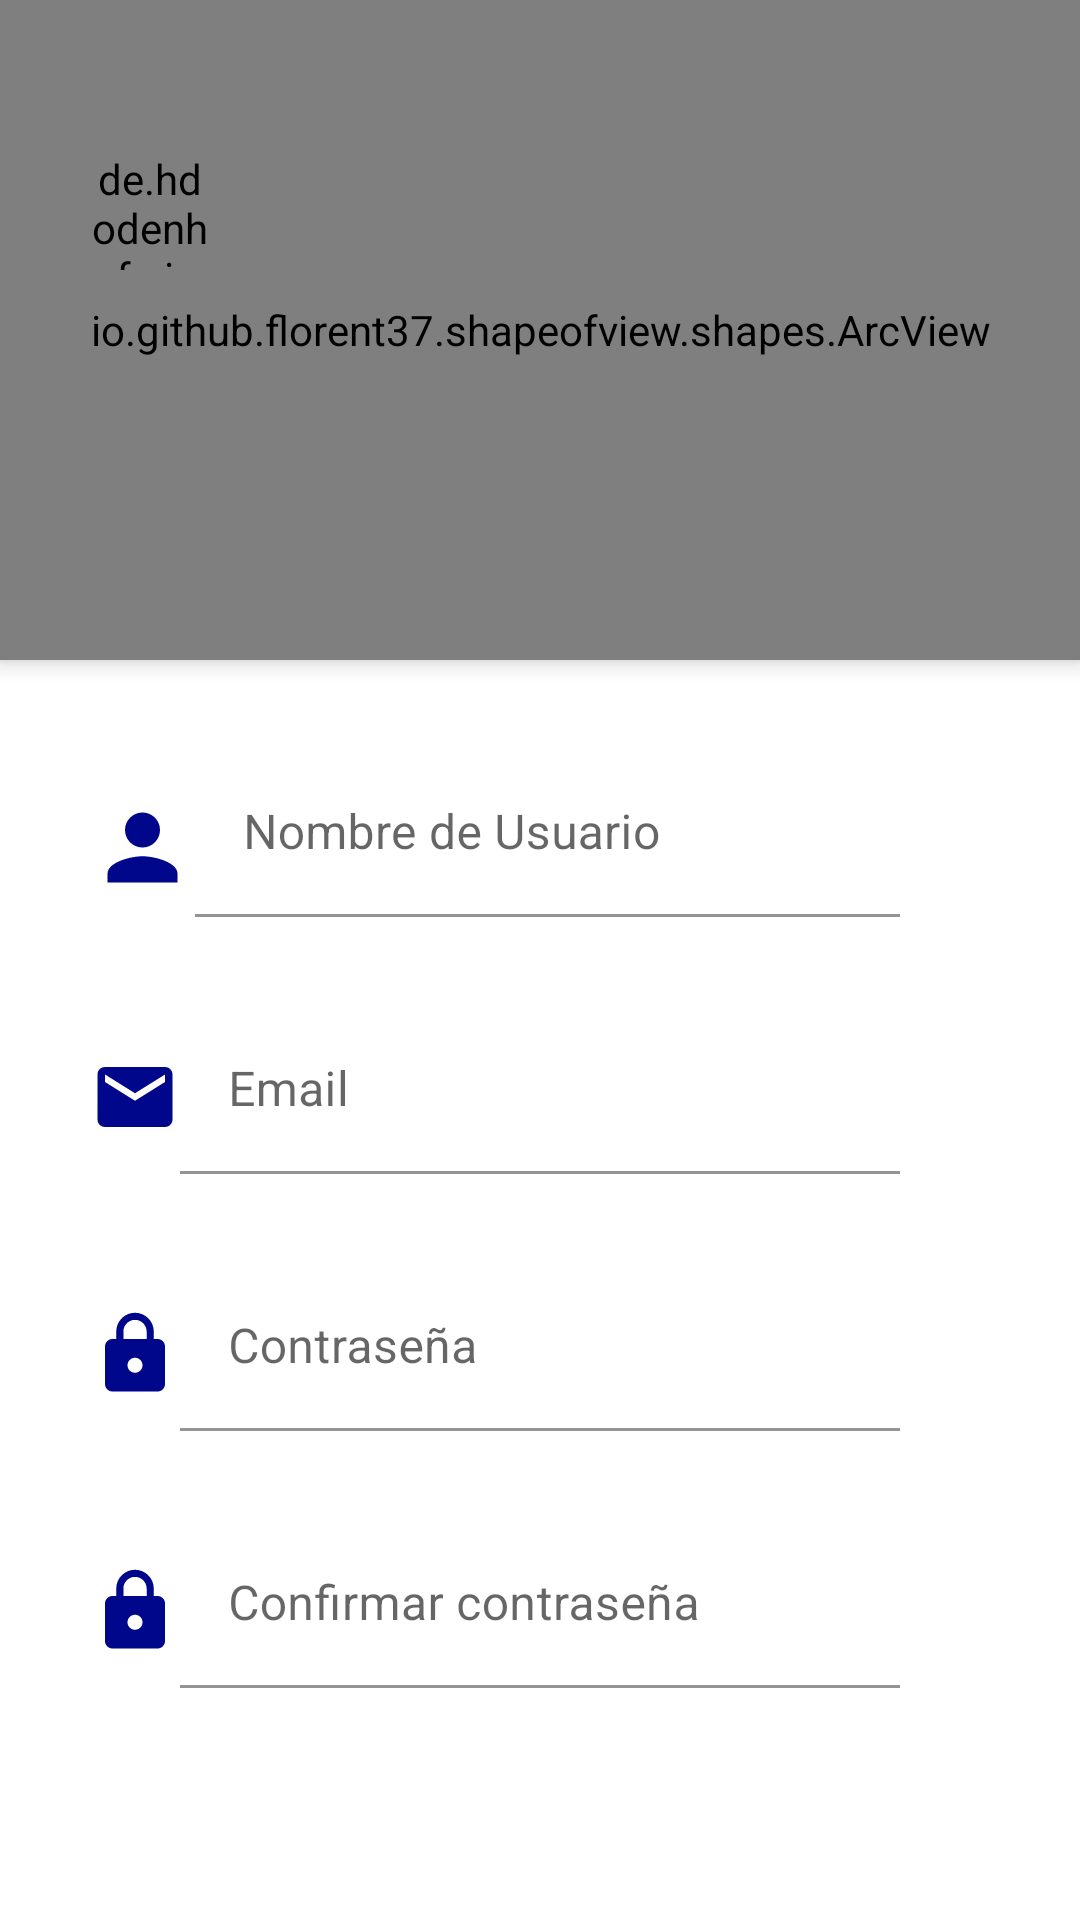

Named icons in this screenshot (1080w x 1920h) and their bounding boxes, Rect(x1, y1, x2, y2):
password: Rect(105, 1312, 165, 1392), Rect(105, 1569, 165, 1649)
person azul: Rect(107, 812, 178, 883)
